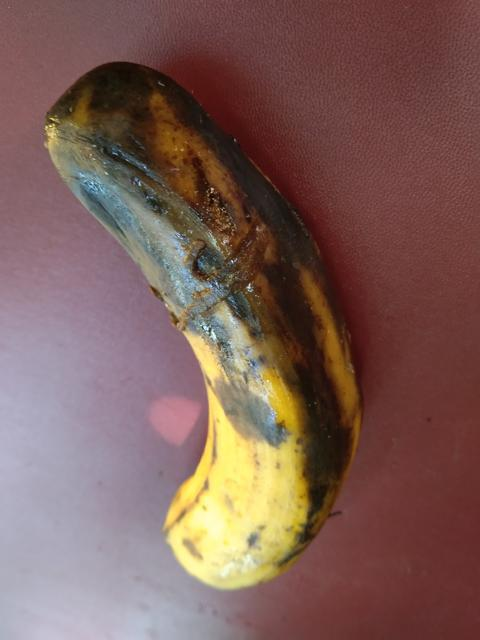rotten: (31, 48, 402, 639)
